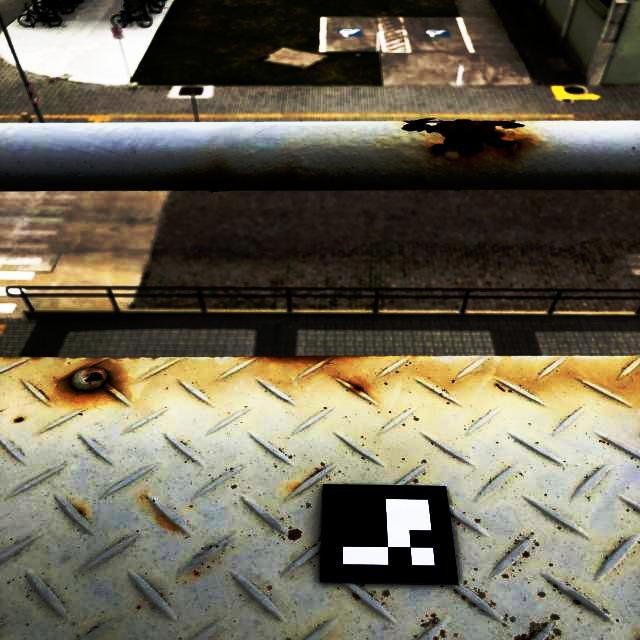Corrosion: (402, 118, 524, 159), (64, 364, 116, 397), (257, 356, 361, 362), (83, 371, 106, 383), (349, 383, 364, 392)
